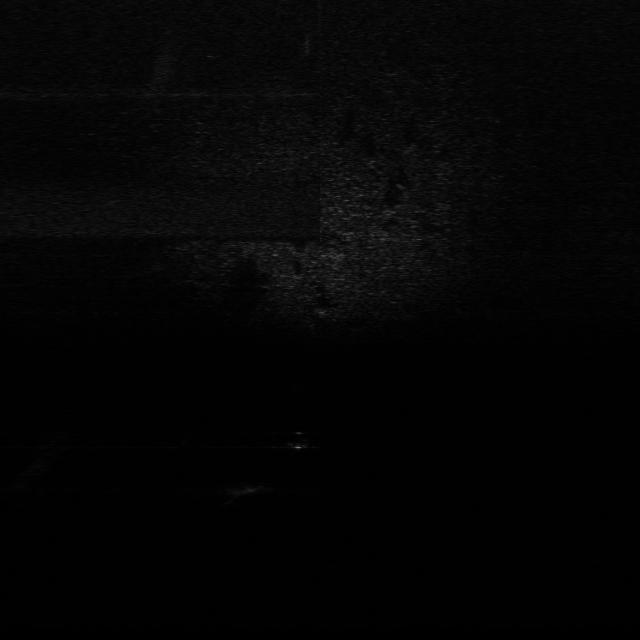ball: (286, 428, 318, 452)
square cage: (221, 478, 278, 498)
